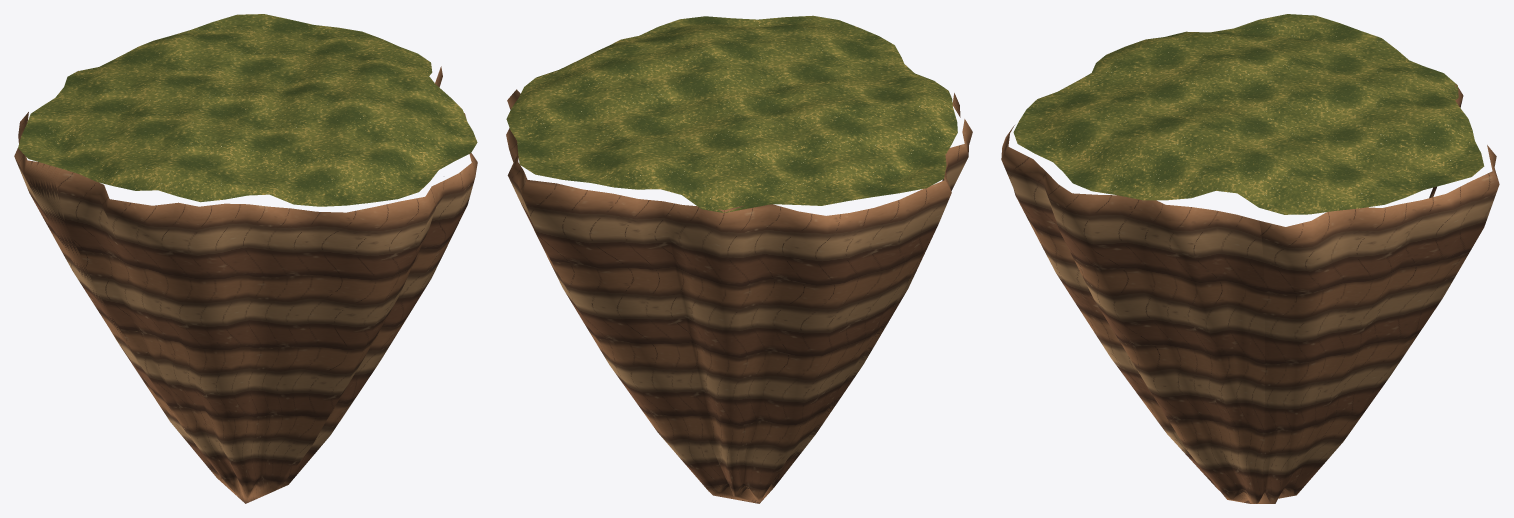
The model's file is isle2.glb.
The picture shows the model from 3 angles, left to right: view 1: azimuth 30°, elevation 25°; view 2: azimuth 150°, elevation 25°; view 3: azimuth 270°, elevation 25°; orthographic projection. The views are drawn at different scales.
Parts seen in each view (by area): view 1: Island; view 2: Island; view 3: Island.
Part boxes in pixels (bbox=[...]): Island: bbox=[14, 14, 477, 503]; Island: bbox=[506, 15, 972, 503]; Island: bbox=[1001, 14, 1499, 503].
Size of the model in its own units: 84.49 by 77.76 by 84.34.
2 materials, 2 textured.
